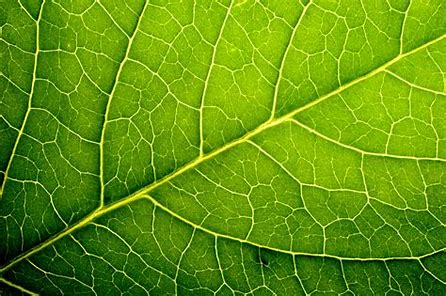inorganic: (6, 8, 435, 290)
